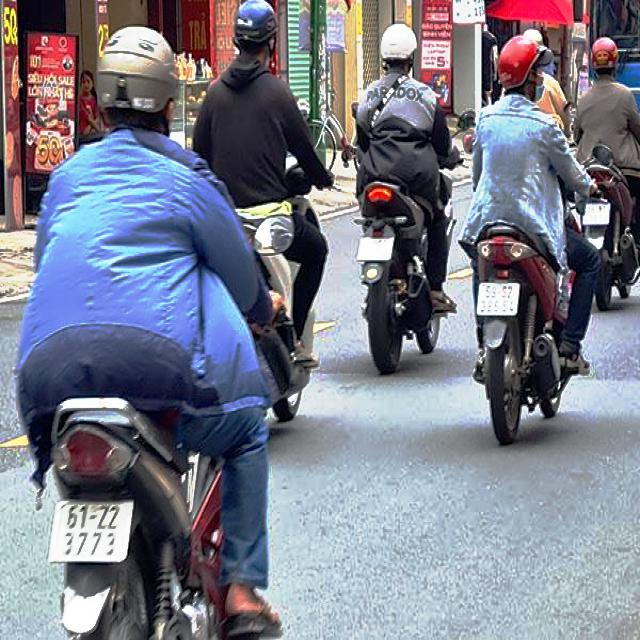license_plate: (51, 502, 135, 563), (477, 283, 522, 318), (585, 204, 612, 228)
